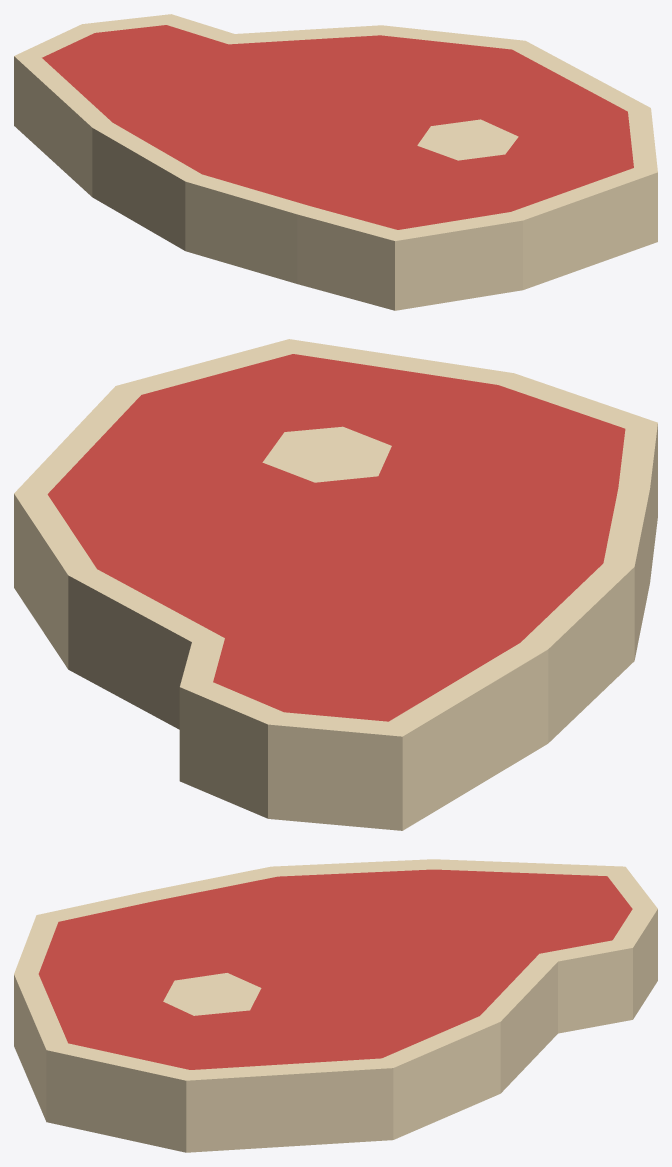
Rendered from steak01.fbx.
The picture shows the model from 3 angles, top to bottom: view 1: azimuth 30°, elevation 25°; view 2: azimuth 150°, elevation 25°; view 3: azimuth 270°, elevation 25°; orthographic projection. The views are drawn at different scales.
Parts seen in each view (by area): view 1: steak01; view 2: steak01; view 3: steak01.
Part boxes in pixels (x1,y1,x2,y2): steak01: (14,14,657,310); steak01: (14,339,657,830); steak01: (14,859,657,1152).
Size of the model in its own units: 389 by 59 by 478.
1 material, 1 textured.
